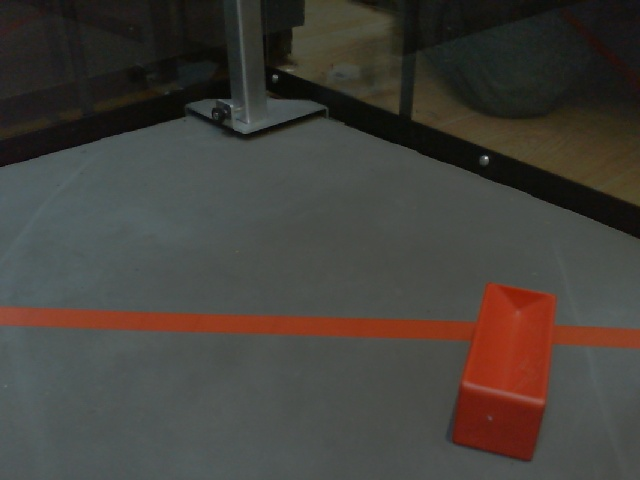RedSample: (452, 280, 560, 462)
